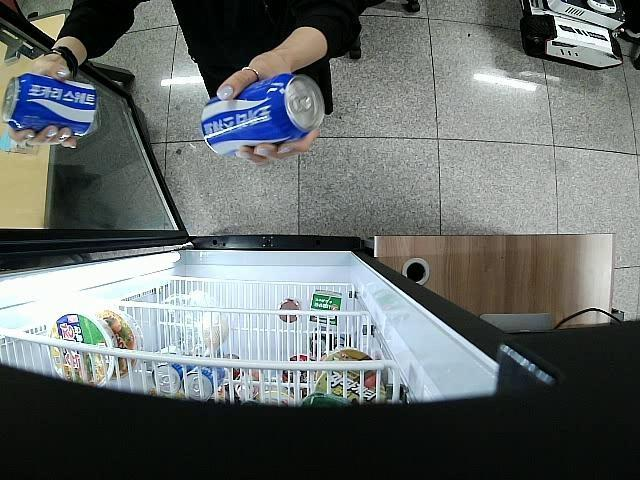13_pocariSweat: (200, 72, 326, 157), (0, 72, 98, 138)
